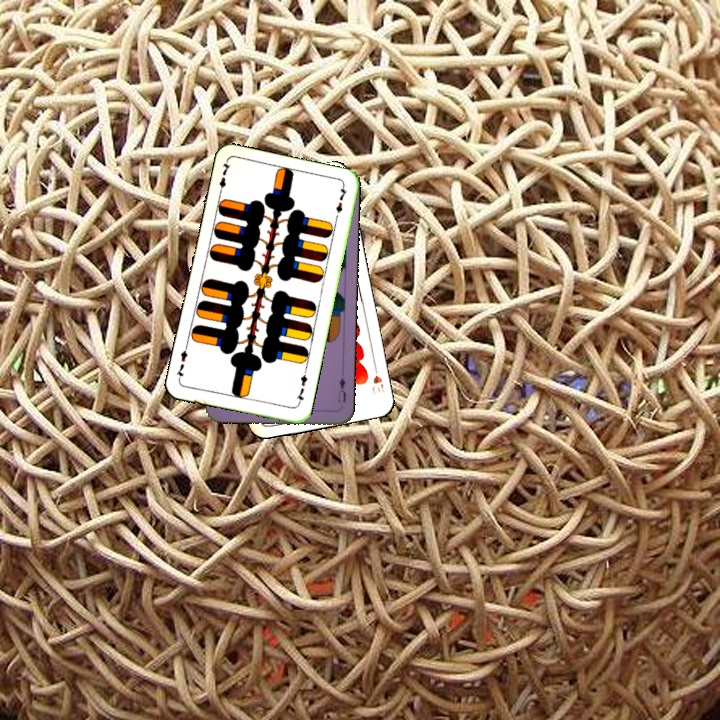E7: (215, 158, 233, 198), (293, 367, 310, 408)
EU: (333, 374, 348, 405)
H10: (368, 360, 387, 399)
